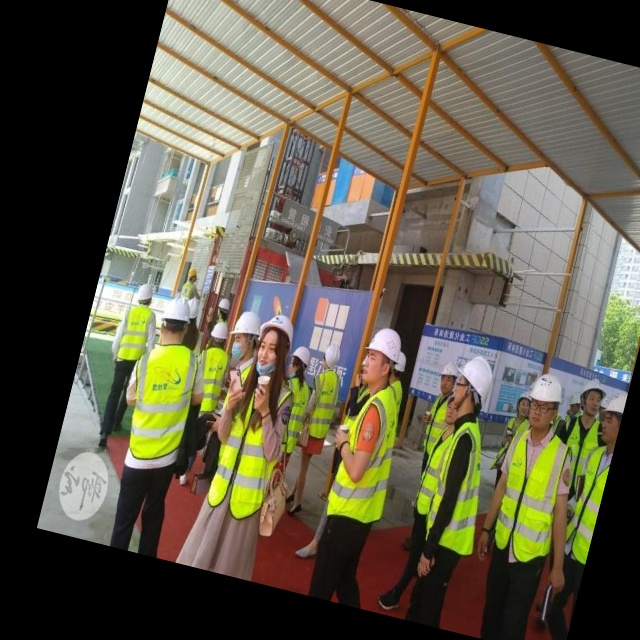Con_Chaleco: (202, 372, 293, 518), (485, 424, 575, 566), (324, 381, 410, 526), (418, 415, 502, 560), (119, 337, 205, 468)
